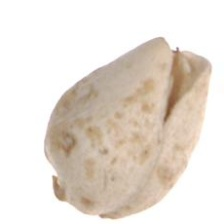L1: (155, 33, 212, 104), (51, 173, 86, 213)
L2: (44, 37, 211, 219)
